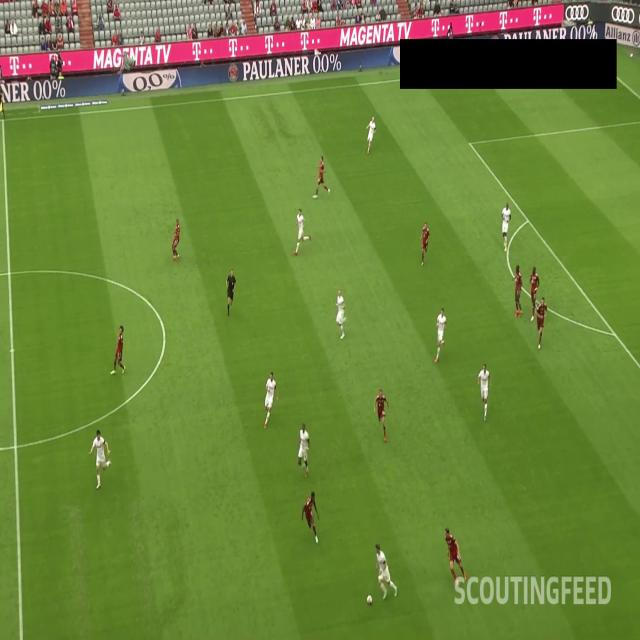ball: (366, 589, 375, 608)
player: (442, 522, 468, 588), (373, 541, 399, 601), (89, 426, 113, 490), (300, 491, 322, 549), (261, 371, 280, 430), (331, 282, 349, 342), (291, 206, 312, 256), (374, 388, 392, 444), (311, 150, 331, 199), (109, 321, 126, 377), (432, 307, 448, 364), (478, 363, 492, 423), (296, 423, 310, 479), (534, 296, 548, 352), (511, 262, 523, 322), (362, 114, 378, 155), (529, 266, 540, 322), (420, 217, 432, 266), (169, 215, 181, 262), (500, 202, 511, 253)
referee: (224, 262, 239, 318)
